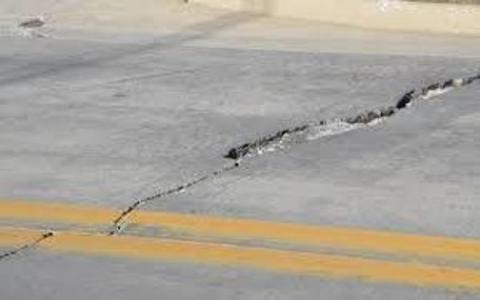patchy roads: (111, 63, 450, 191)
